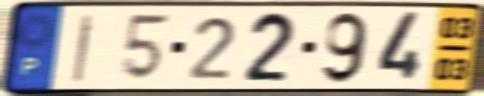2: (240, 7, 302, 88), (187, 15, 240, 81)
4: (375, 9, 429, 87)
5: (118, 11, 173, 85)
9: (320, 10, 373, 86)
I: (70, 12, 97, 84)
